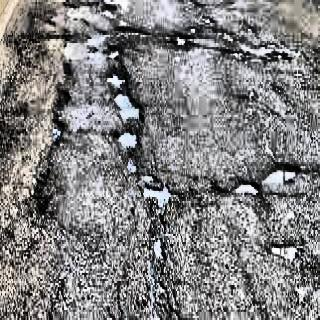pothole: (262, 162, 299, 192), (269, 239, 300, 267), (114, 91, 140, 120), (144, 183, 174, 204), (103, 64, 128, 89), (233, 178, 259, 200), (115, 126, 139, 147), (50, 116, 69, 141), (150, 236, 167, 263), (118, 25, 152, 37), (171, 32, 189, 47), (201, 12, 217, 28), (125, 158, 140, 175), (106, 48, 120, 59), (189, 26, 197, 35)
